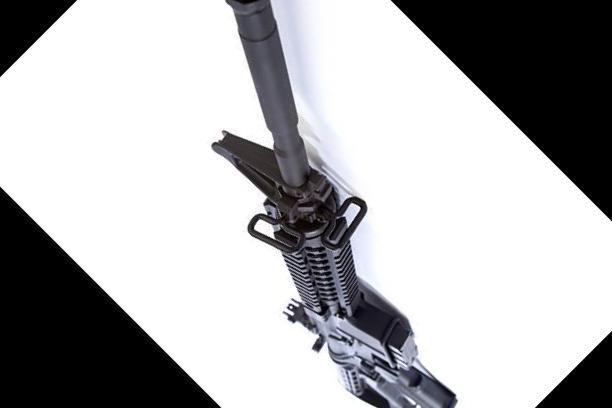larga: (211, 0, 457, 408)
